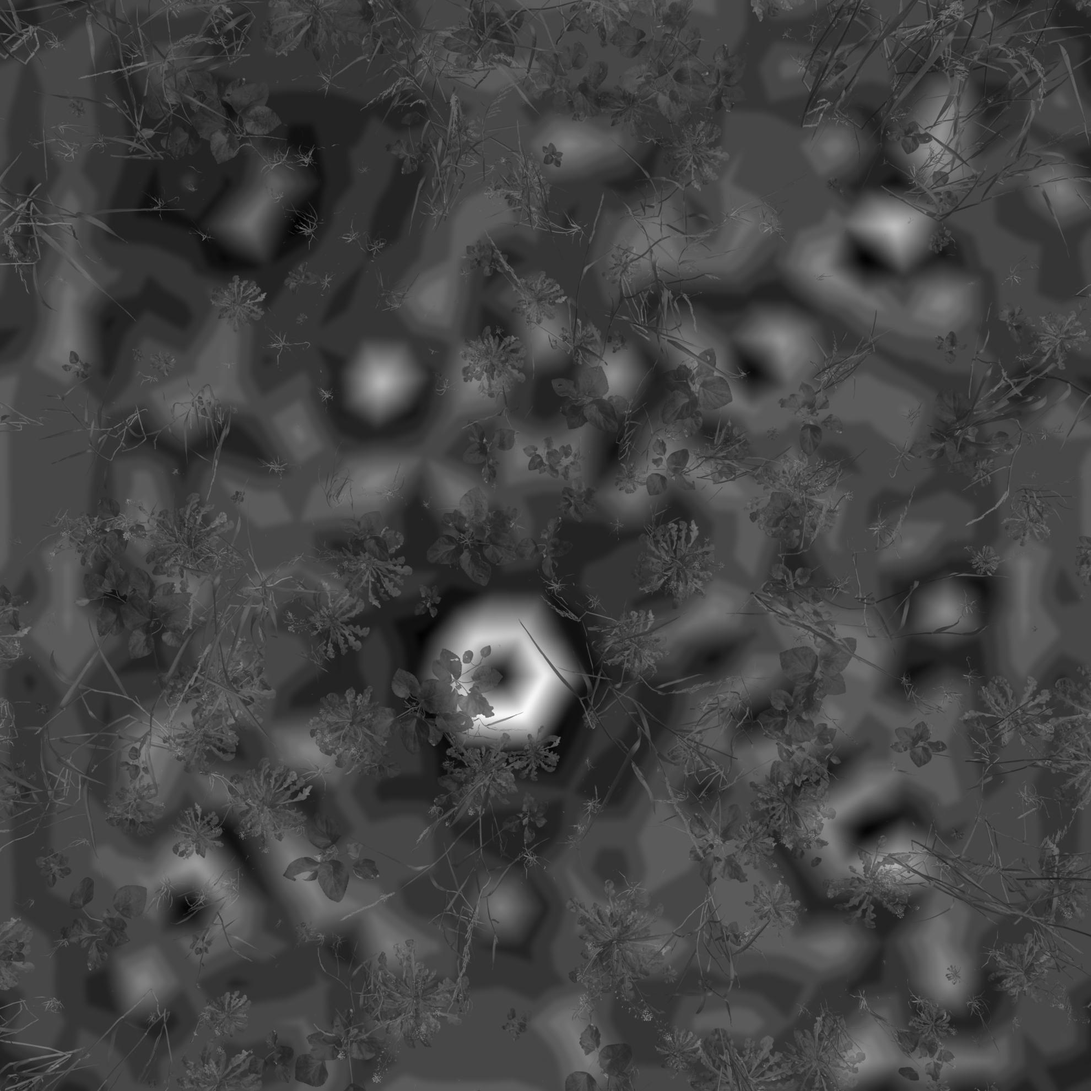landmine: (433, 600, 580, 758), (186, 120, 300, 245)
